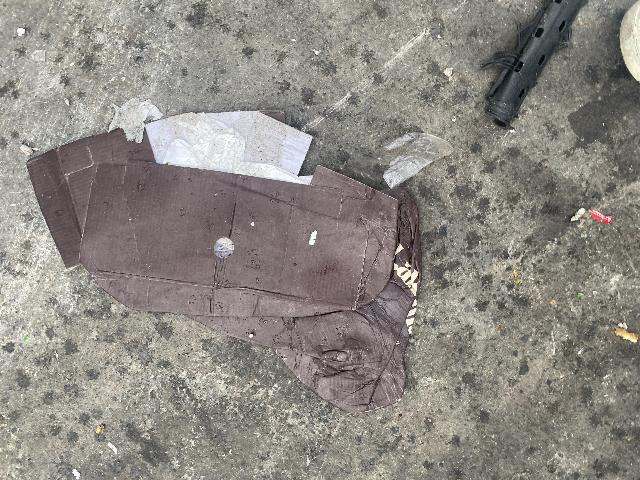Kagit: (24, 110, 423, 415)
Plastik: (347, 128, 457, 189)
